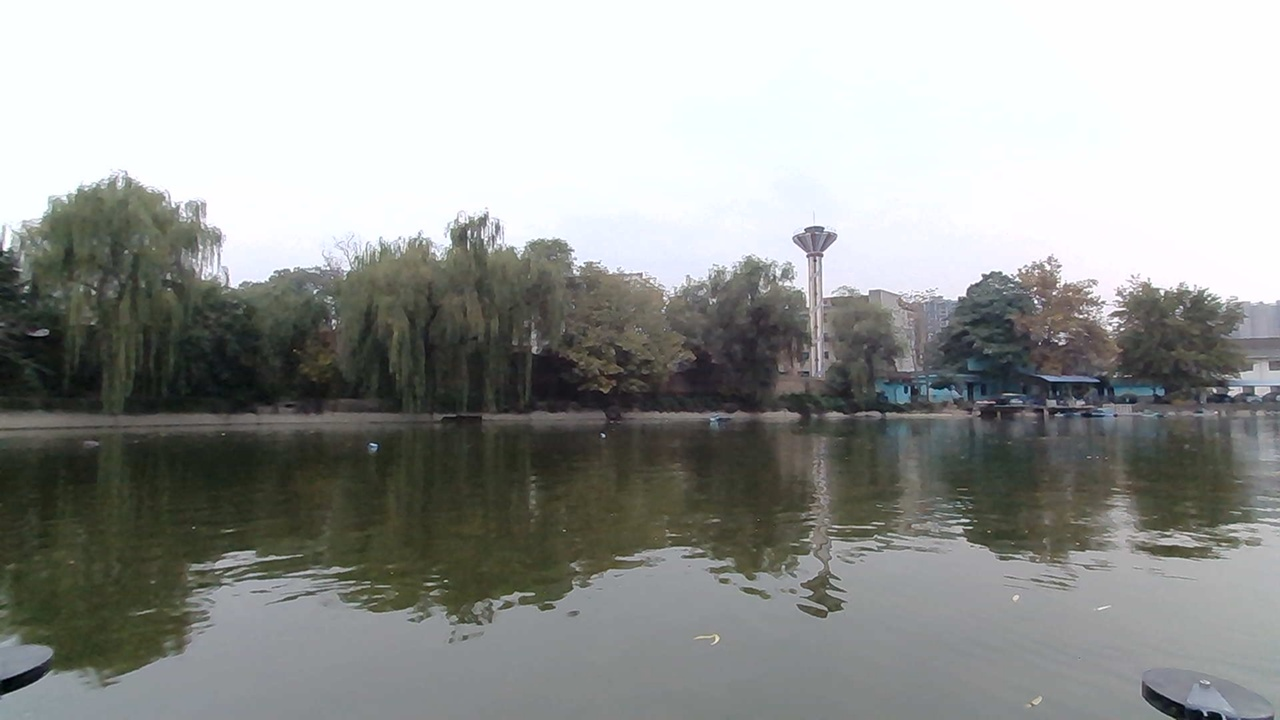bottle: (360, 437, 391, 455)
